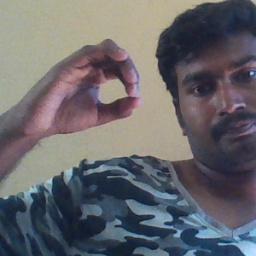O: (25, 36, 145, 138)
